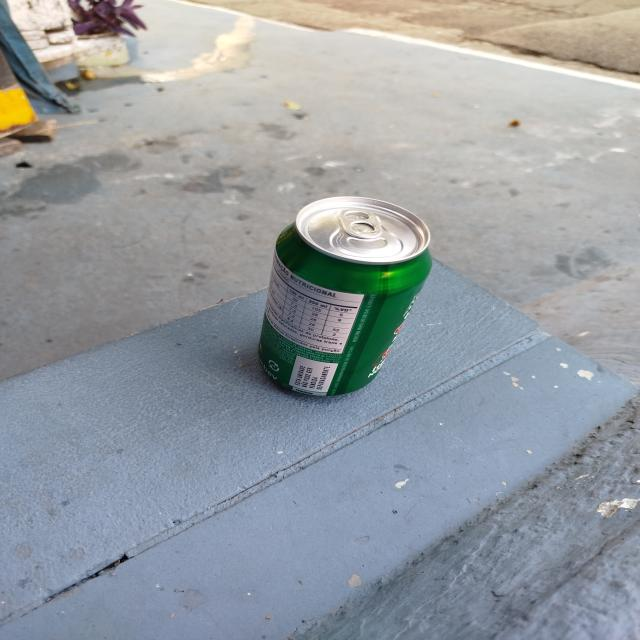Guarana: (262, 198, 432, 394)
